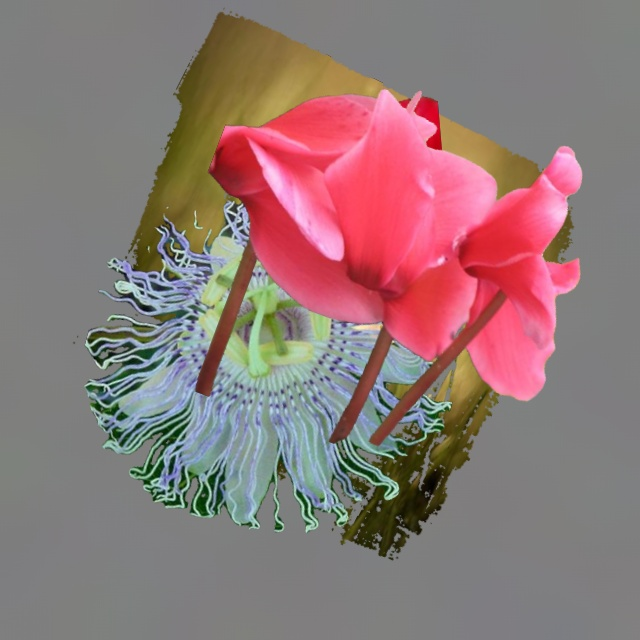cyclamen: (195, 89, 582, 445)
daisy: (73, 12, 573, 559)
passion flower: (85, 185, 451, 532)
petunia: (371, 96, 442, 175)
